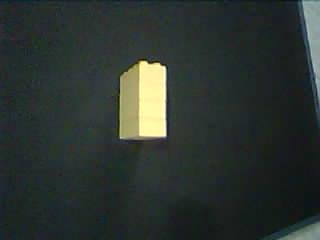lego: (118, 59, 166, 140)
